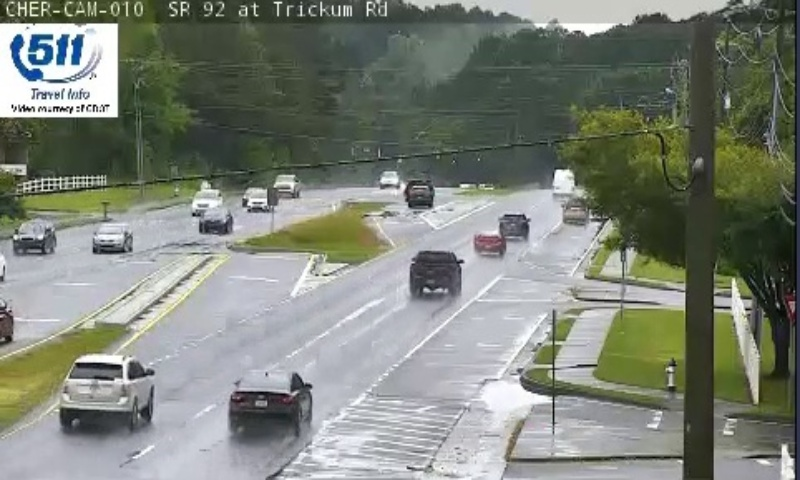car: (61, 353, 154, 415), (229, 369, 312, 420), (408, 250, 459, 292), (498, 213, 530, 240), (473, 229, 506, 254)
